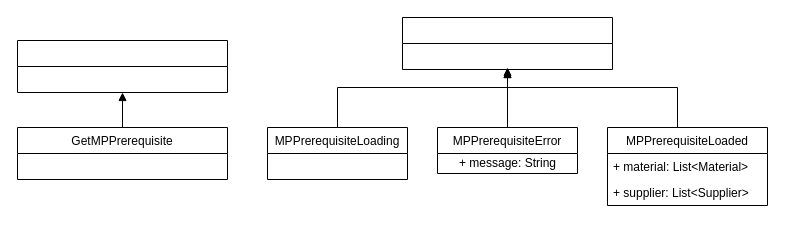
The diagram is 785 pixels wide and 226 high, and some of its shapes have lost their labels. Here are the shapes that lost their labels. From the top down, the centre of each, then its label:
the point at 507,43: MPPrerequisiteState
the point at 122,66: MPPrerequisiteEvent
